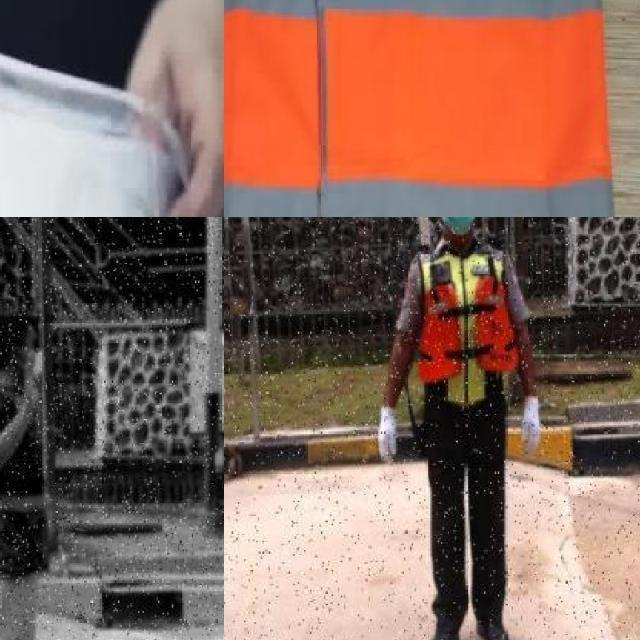apron: (514, 396, 548, 461), (377, 391, 402, 473)
